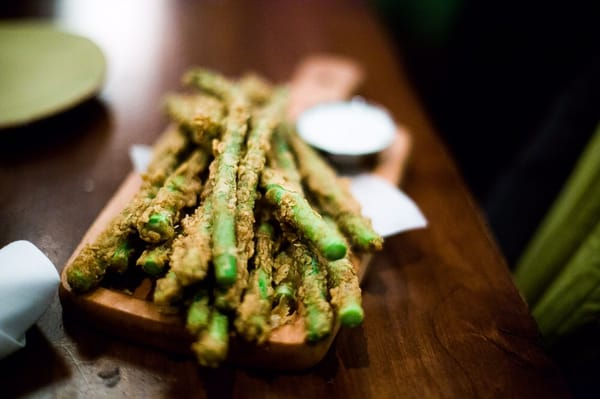pizza: (297, 100, 395, 176)
soup: (59, 64, 388, 374)
